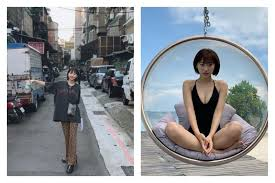people: (167, 49, 242, 152), (49, 69, 82, 172)
